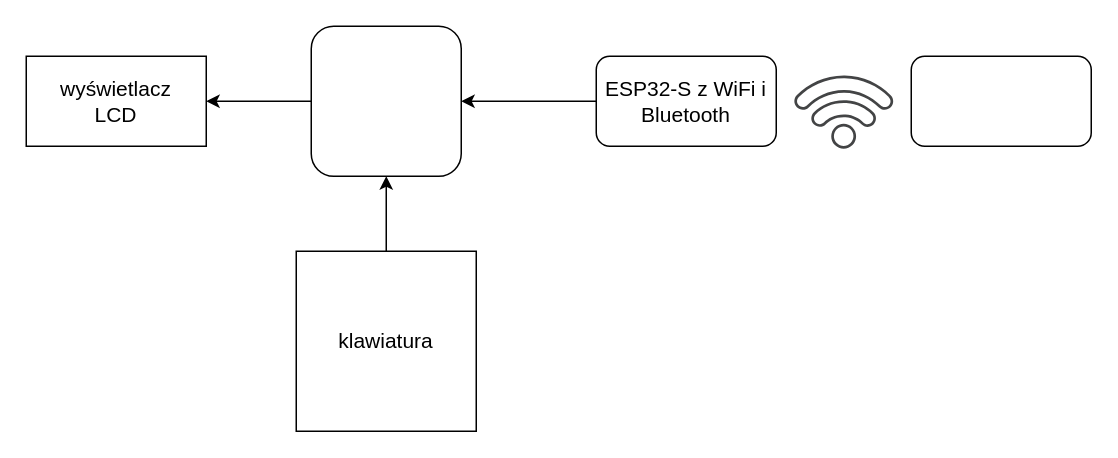
The diagram is 1118 pixels wide and 458 high, and some of its shapes have lost their labels. The shapes that lost their labels are listed below. From the top down, each one's box as (x1, y1, x2, y2) in pixels, then its label:
(310, 25, 461, 176): STM32 Blackpill
(910, 55, 1091, 146): External server
